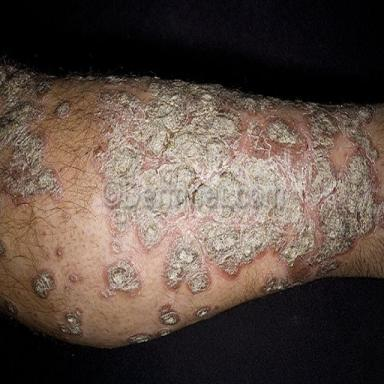Psoriasis: (0, 66, 384, 299), (31, 269, 56, 298), (59, 307, 83, 335), (129, 329, 172, 344), (158, 303, 179, 325), (53, 97, 73, 119), (0, 297, 19, 319), (193, 307, 211, 317), (68, 274, 83, 283)
